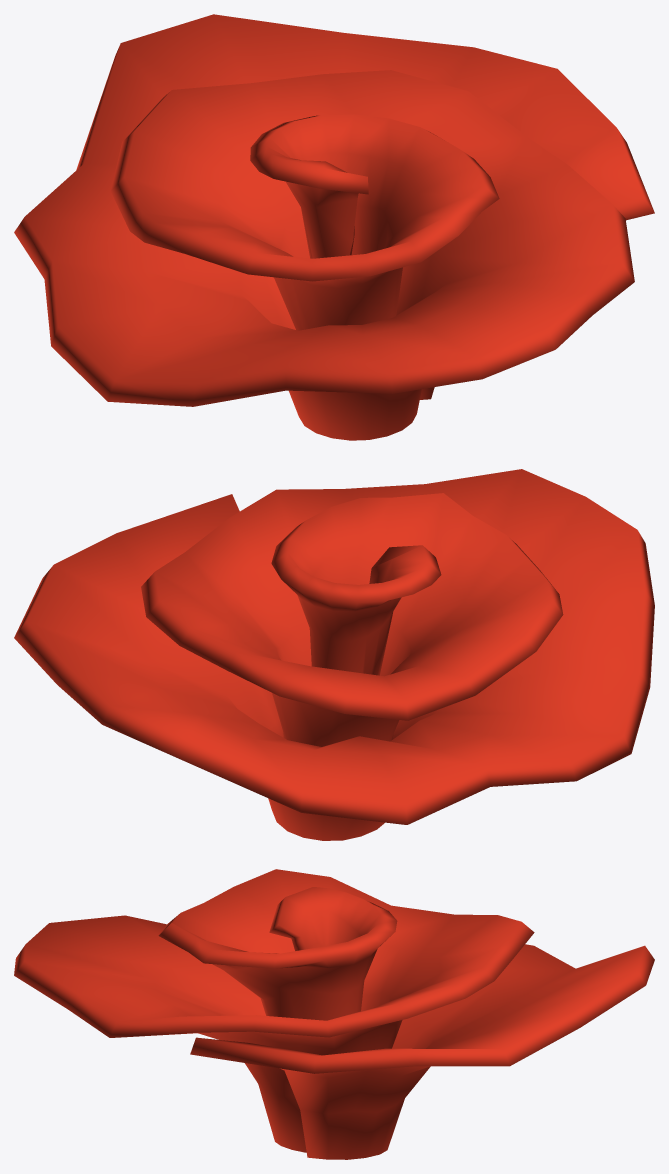
File: Spiral Coral 2.fbx
3 views of the same model, one above another, from view 1: azimuth 30°, elevation 25°; view 2: azimuth 150°, elevation 25°; view 3: azimuth 270°, elevation 25° (orthographic). The views are drawn at different scales.
Parts seen in each view (by area): view 1: Helix004; view 2: Helix004; view 3: Helix004.
Boxes of the visible parts, x1,y1,x2,y2 form: Helix004: (14,14,654,440); Helix004: (14,469,654,840); Helix004: (14,869,654,1159).
Bounding box in the file's own units: 22.51 × 11.32 × 28.95.
